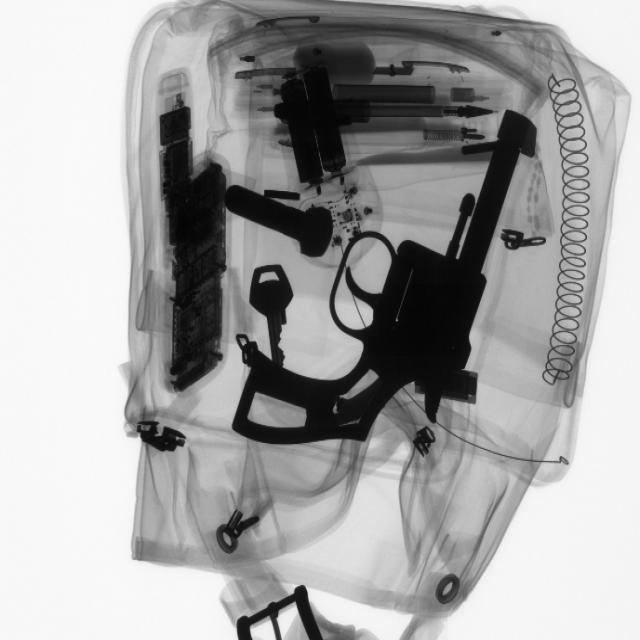GUN: (222, 112, 527, 454)
SCREW: (196, 170, 345, 282)
